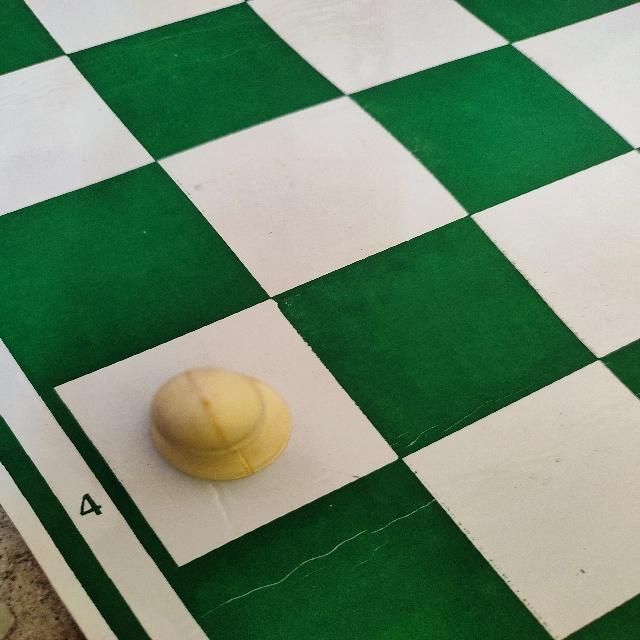Pawn: (147, 364, 290, 484)
